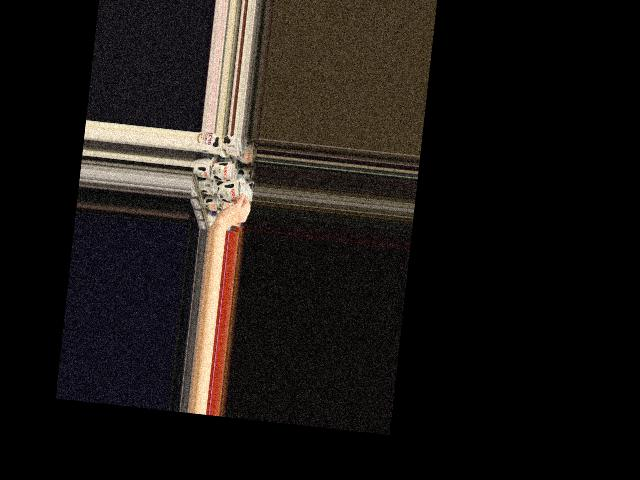cotage: (217, 175, 245, 202)
